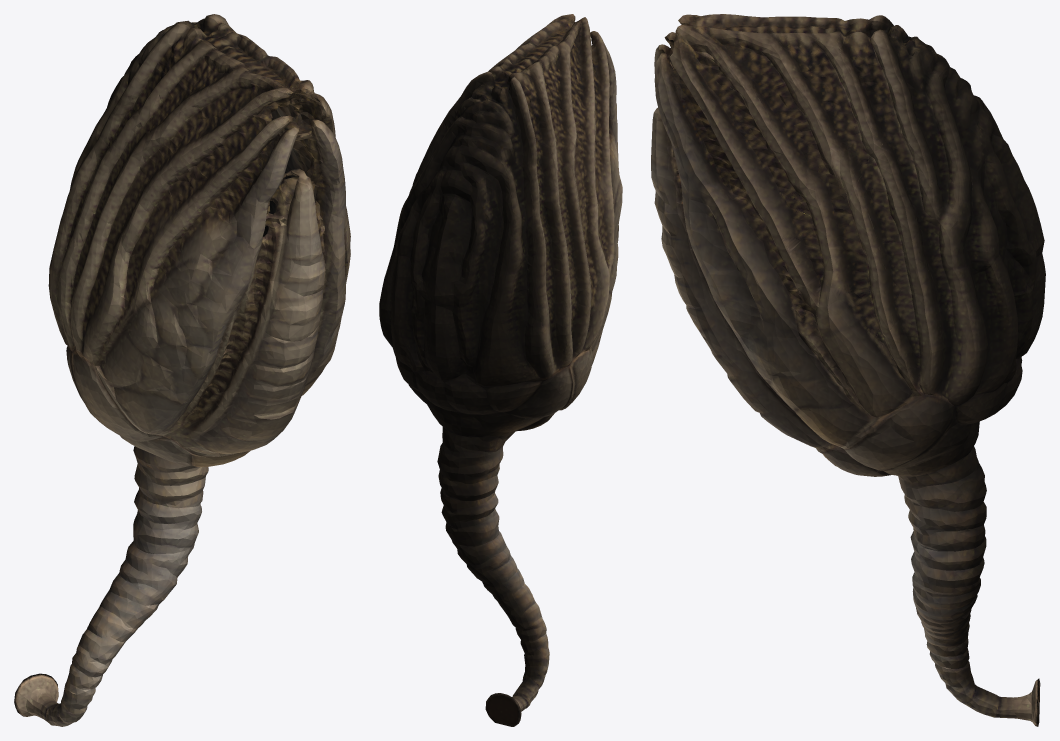
The picture shows the model from 3 angles, left to right: view 1: azimuth 30°, elevation 25°; view 2: azimuth 150°, elevation 25°; view 3: azimuth 270°, elevation 25°; orthographic projection. The views are drawn at different scales.
Visible parts, largest first — view 1: geometry_0; view 2: geometry_0; view 3: geometry_0.
Part boxes in pixels (left/top/right/bottom): geometry_0: left=14, top=14, right=350, bottom=726; geometry_0: left=379, top=14, right=622, bottom=726; geometry_0: left=651, top=14, right=1045, bottom=726.
Size of the model in its own units: 0.2008 by 0.6 by 0.289.
1 material, 1 textured.
